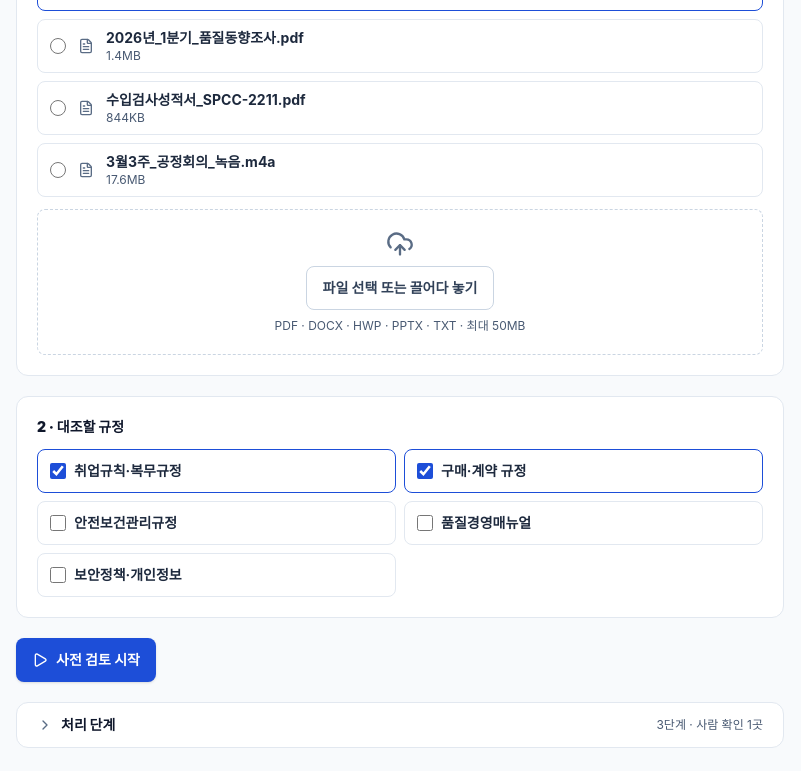
Test: ReviewPage › 심각도 높음이 있으면 상신을 권하지 않는다
(page scrolled)
Click the button "사전 검토 시작". click: [86, 660]
box: [16,638,156,682]
(page scrolled)
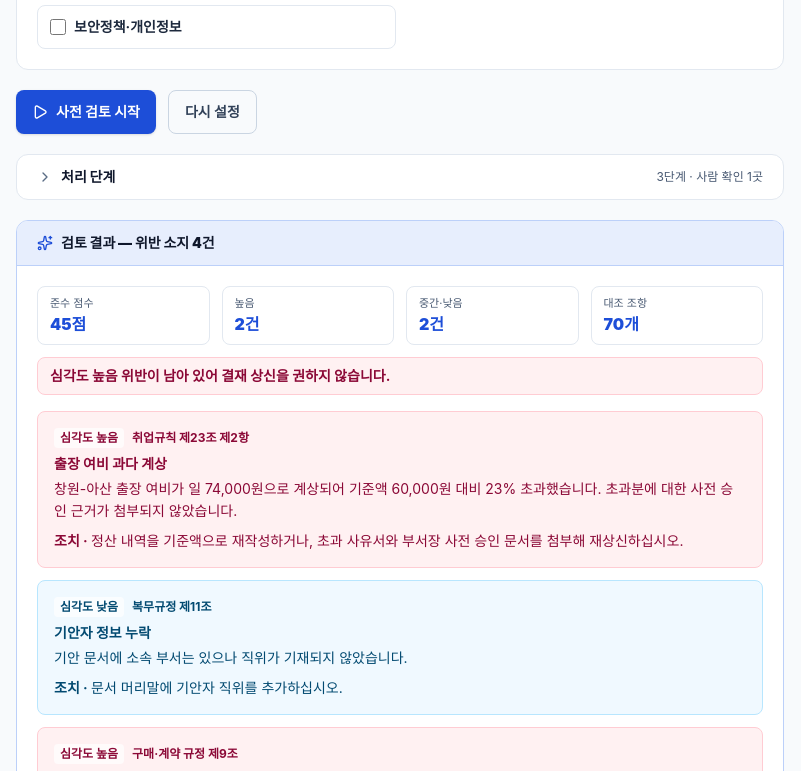
Result: the text "심각도 높음 위반이 남아 있어 결재 상신을 권하지 않습니다." is shown at [37,356,763,394]
